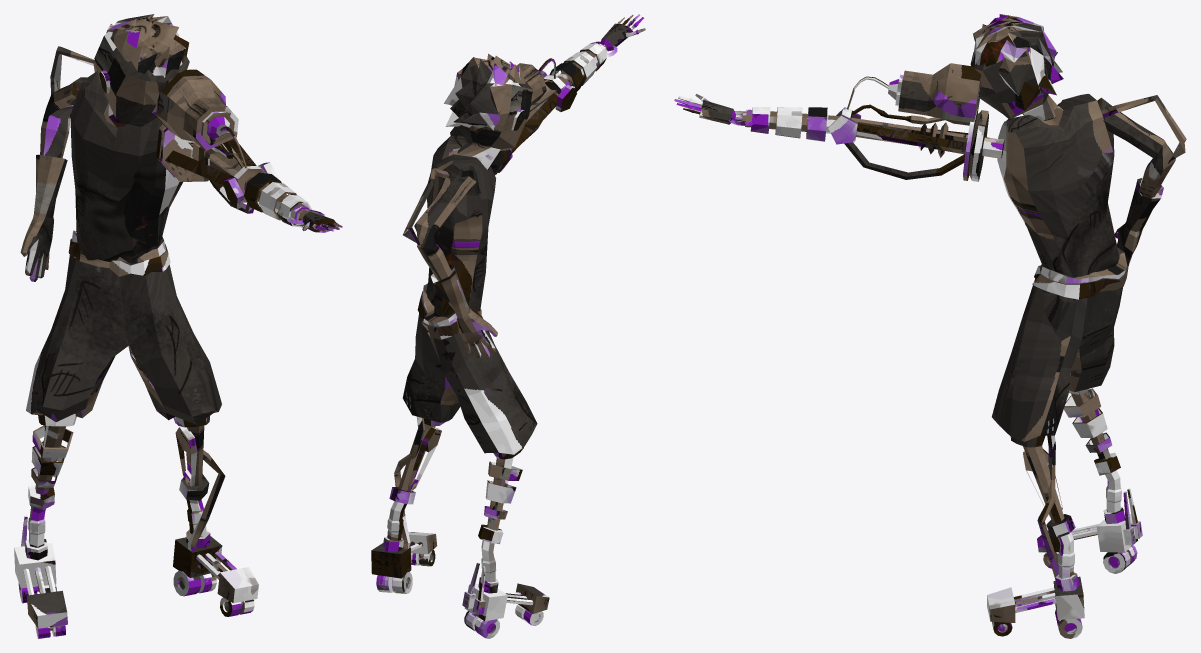
Rendered from CyborgFINALAnimation_000101.obj.
3 renders of one model, left to right at view 1: azimuth 30°, elevation 25°; view 2: azimuth 150°, elevation 25°; view 3: azimuth 270°, elevation 25°, orthographic. The views are drawn at different scales.
Visible parts, largest first — view 1: CyborgMesh_Cube.002; view 2: CyborgMesh_Cube.002; view 3: CyborgMesh_Cube.002.
Part boxes in pixels (x1=…): CyborgMesh_Cube.002: x1=14, y1=14, x2=342, y2=638; CyborgMesh_Cube.002: x1=371, y1=14, x2=645, y2=638; CyborgMesh_Cube.002: x1=674, y1=14, x2=1186, y2=638.
Size of the model in its own units: 3.08 by 9.42 by 7.58.
